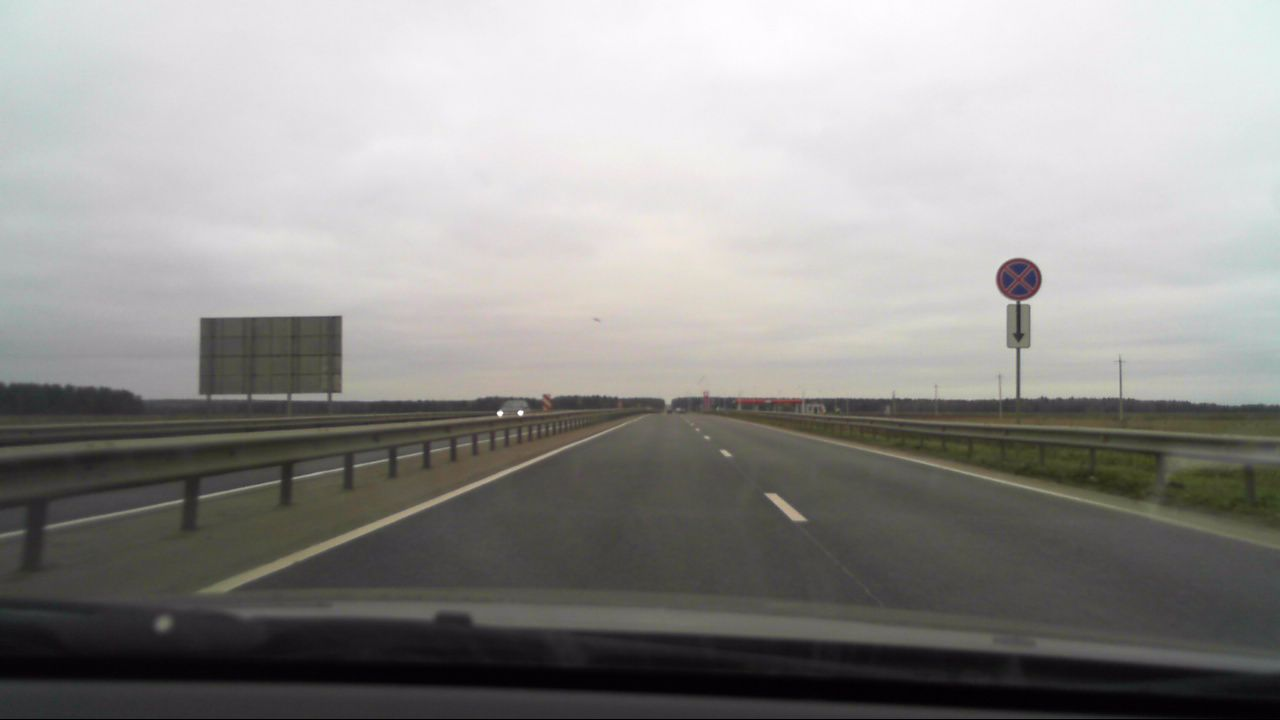No Parking: (995, 256, 1043, 302)
